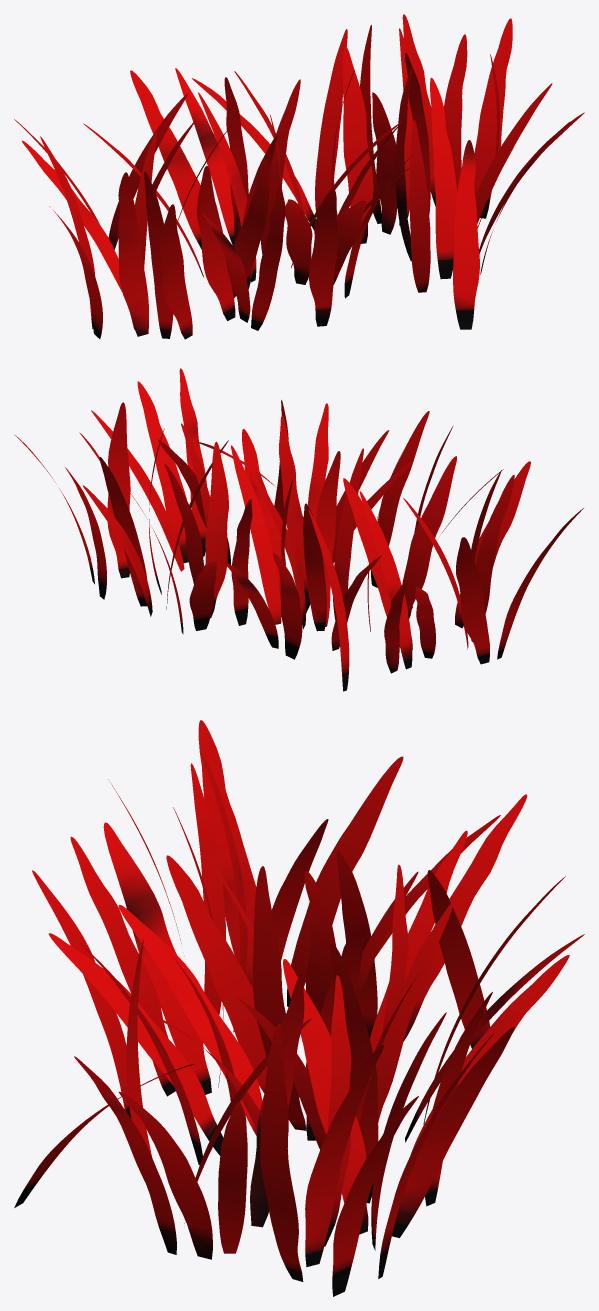
Rendered from SM_stylized_grass_var_01.fbx.
3 views of the same model, one above another, from view 1: azimuth 30°, elevation 25°; view 2: azimuth 150°, elevation 25°; view 3: azimuth 270°, elevation 25° (orthographic). The views are drawn at different scales.
Visible parts, largest first — view 1: stylized_grass_var_01.001; view 2: stylized_grass_var_01.001; view 3: stylized_grass_var_01.001.
Boxes of the visible parts, <box> form: stylized_grass_var_01.001: <box>14,14,584,339</box>; stylized_grass_var_01.001: <box>14,368,583,691</box>; stylized_grass_var_01.001: <box>14,720,584,1296</box>.
Bounding box in the file's own units: 190 × 62.88 × 121.
